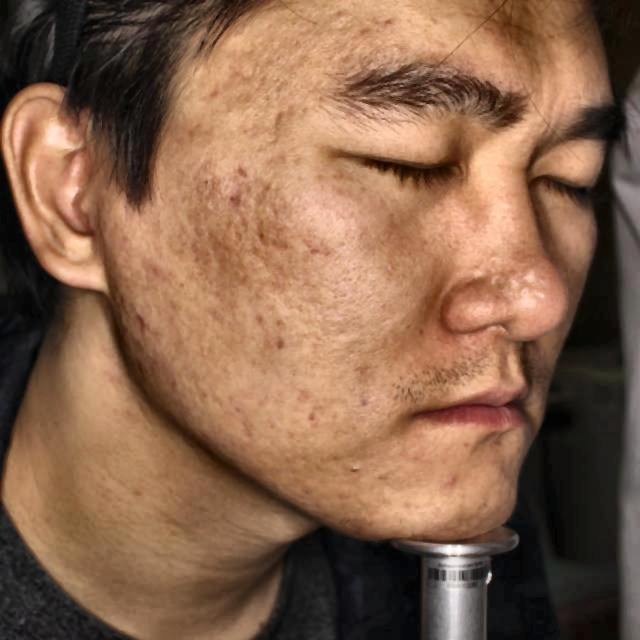comedone: (131, 309, 158, 341), (144, 252, 169, 282)
